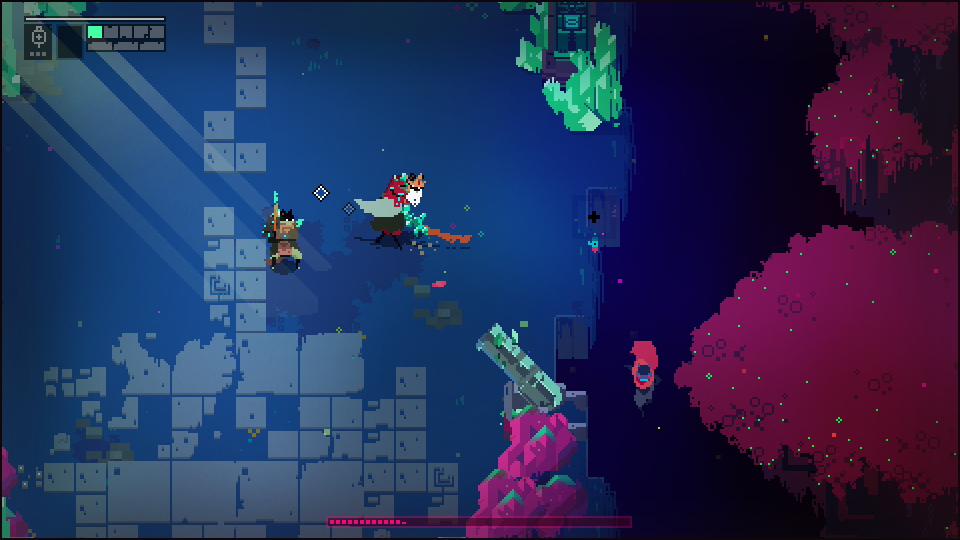hanged_man: (351, 168, 439, 255)
player: (628, 338, 666, 395)
